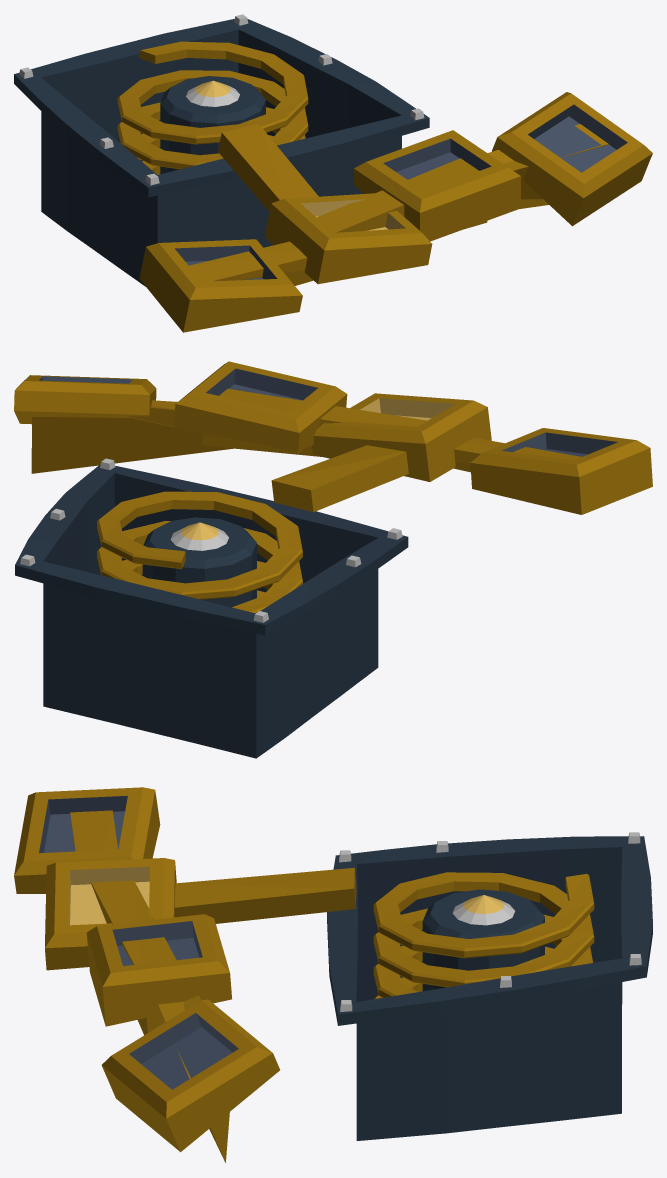
The model's file is whimsical-spring-attachment-7b7c11.glb.
3 views of the same model, one above another, from view 1: azimuth 30°, elevation 25°; view 2: azimuth 150°, elevation 25°; view 3: azimuth 270°, elevation 25° (orthographic). The views are drawn at different scales.
Visible parts, largest first — view 1: middle-finger-metacarpal; view 2: middle-finger-metacarpal; view 3: middle-finger-metacarpal.
Boxes of the visible parts, box(x1,y1,x2,y2) form: middle-finger-metacarpal: box(14, 14, 652, 332); middle-finger-metacarpal: box(14, 361, 652, 758); middle-finger-metacarpal: box(14, 787, 652, 1162).
Size of the model in its own units: 0.0849 by 0.0234 by 0.077.
